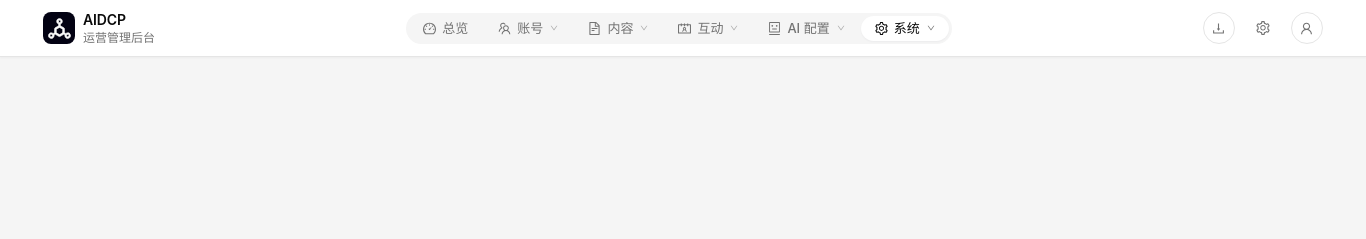
Test: AppShell grouped navigation model › opens a multi-destination group by click for touch and keyboard activation paths
This screenshot has width=1366, height=239.
Step 1. Click the button with aria-label "打开系统分组菜单" → (905, 28), box [861,16,949,40]
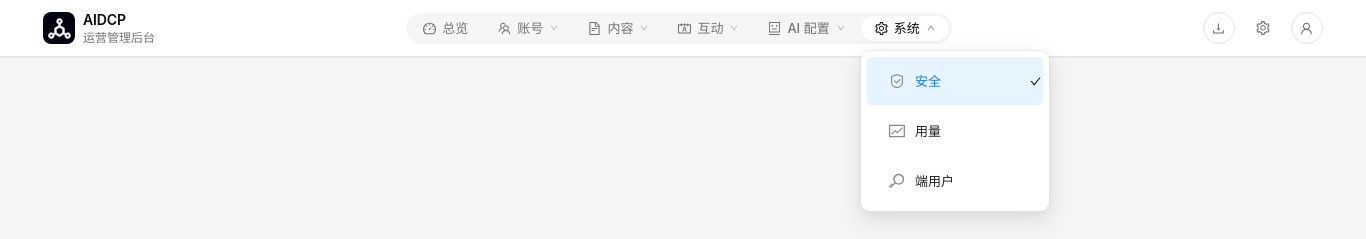
Expected: the button with aria-label "打开系统分组菜单" is expanded, [861,16,949,40]
Expected: the links read "安全", "用量", "端用户", in this order, [889,73,1040,89]; [889,123,941,139]; [889,173,954,189]
